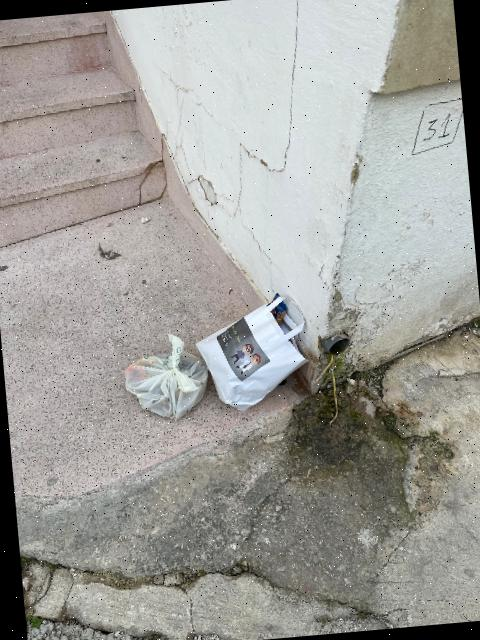Organic -White-: (125, 334, 207, 419)
Other: (196, 296, 307, 410)
